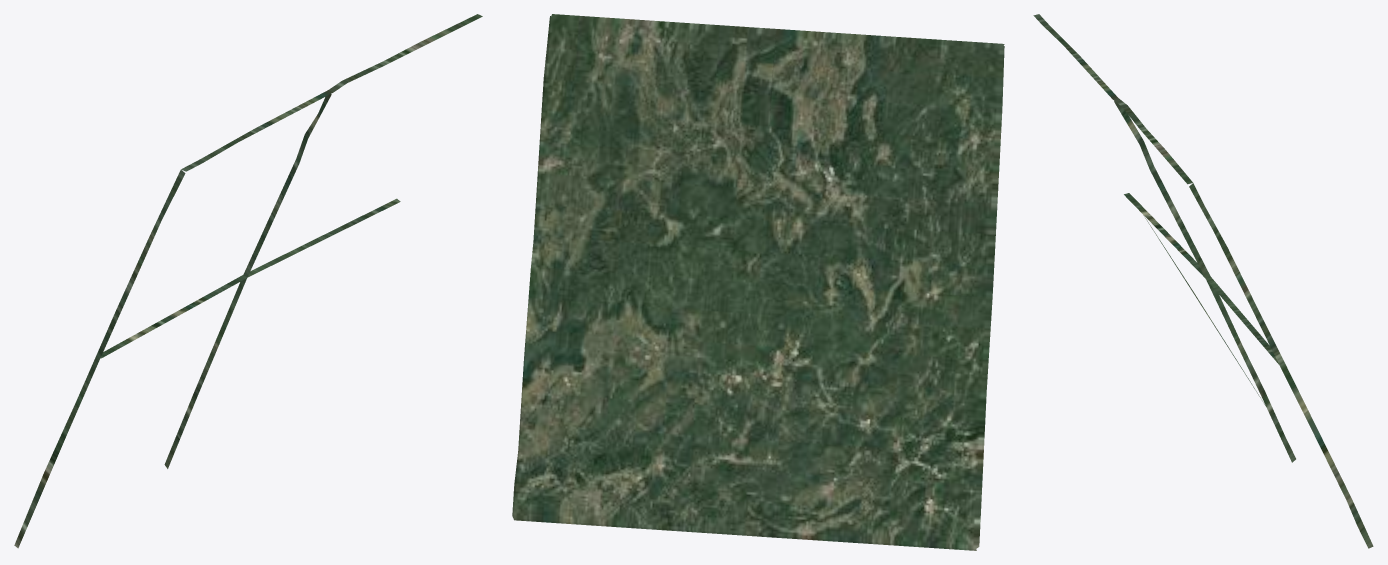
3 renders of one model, left to right at view 1: azimuth 30°, elevation 25°; view 2: azimuth 150°, elevation 25°; view 3: azimuth 270°, elevation 25°, orthographic. The views are drawn at different scales.
Size of the model in its own units: 315942 by 289804 by 225877.
1 material, 1 textured.
